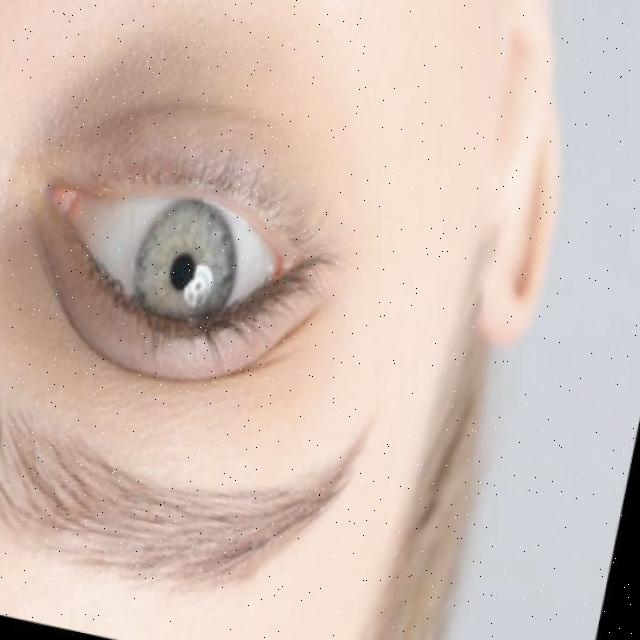puffy_eyes: (48, 11, 331, 235)
